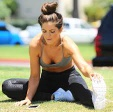female: (32, 1, 69, 49)
